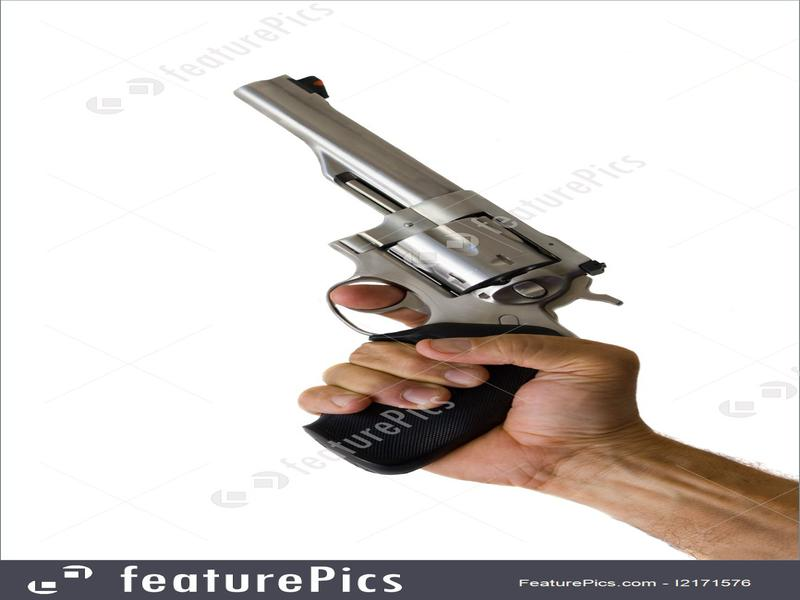Revolver: (232, 58, 631, 506)
